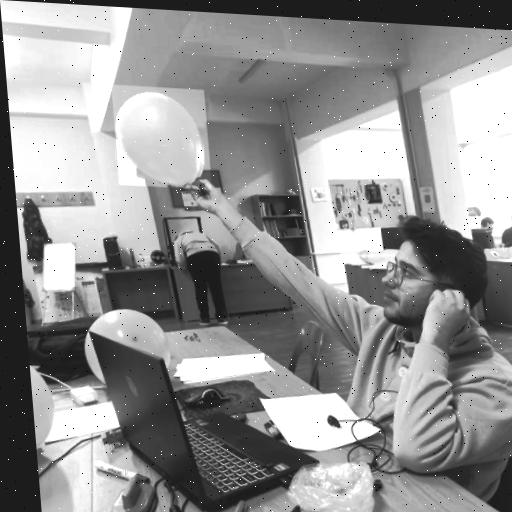balloon: (111, 85, 213, 190)
